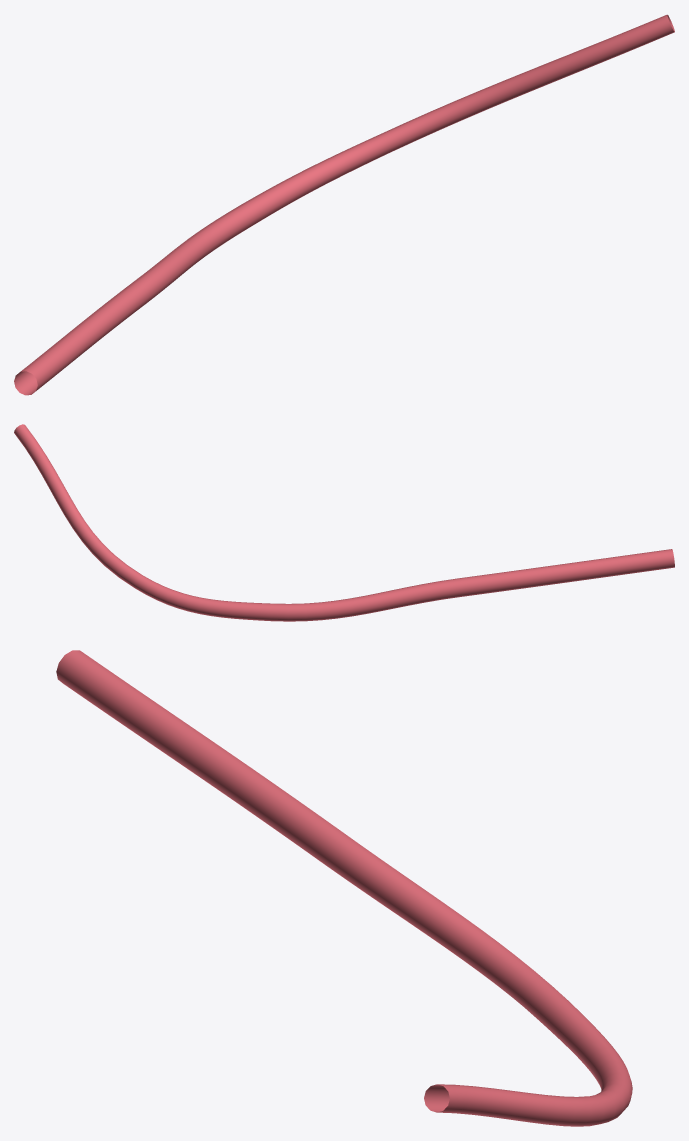
The picture shows the model from 3 angles, top to bottom: view 1: azimuth 30°, elevation 25°; view 2: azimuth 150°, elevation 25°; view 3: azimuth 270°, elevation 25°; orthographic projection. The views are drawn at different scales.
Visible parts, largest first — view 1: ZA_05f5eeee9f693c3e; view 2: ZA_05f5eeee9f693c3e; view 3: ZA_05f5eeee9f693c3e.
Boxes of the visible parts, x1,y1,x2,y2 form: ZA_05f5eeee9f693c3e: [14, 14, 674, 395]; ZA_05f5eeee9f693c3e: [14, 424, 674, 621]; ZA_05f5eeee9f693c3e: [56, 650, 632, 1126].
Size of the model in its own units: 0.0559 by 0.01 by 0.0244.
